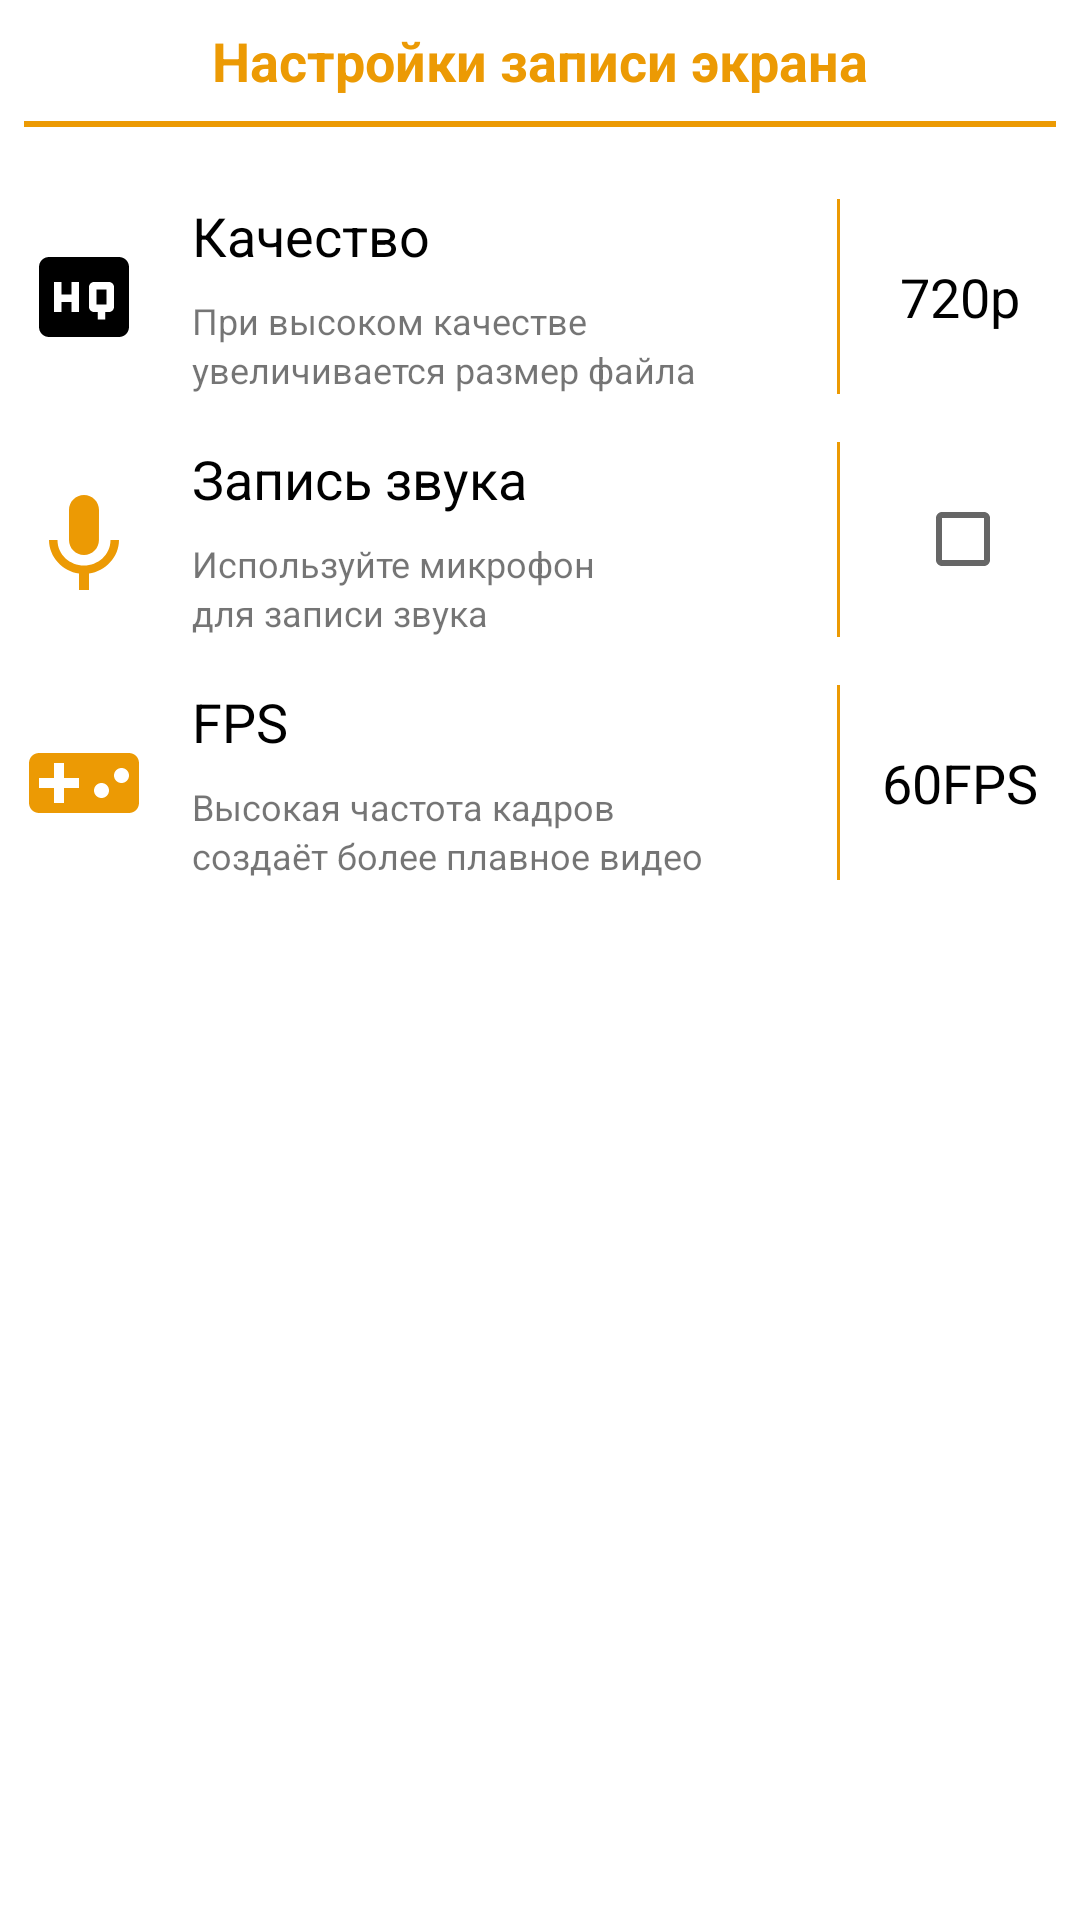

Named icons in this screenshot (1080x1920) and their bounding boxes, (x1, y1, x2, y2):
keyboard voice: (49, 495, 119, 590)
quality: (39, 257, 129, 337)
videogame: (29, 753, 139, 813)
